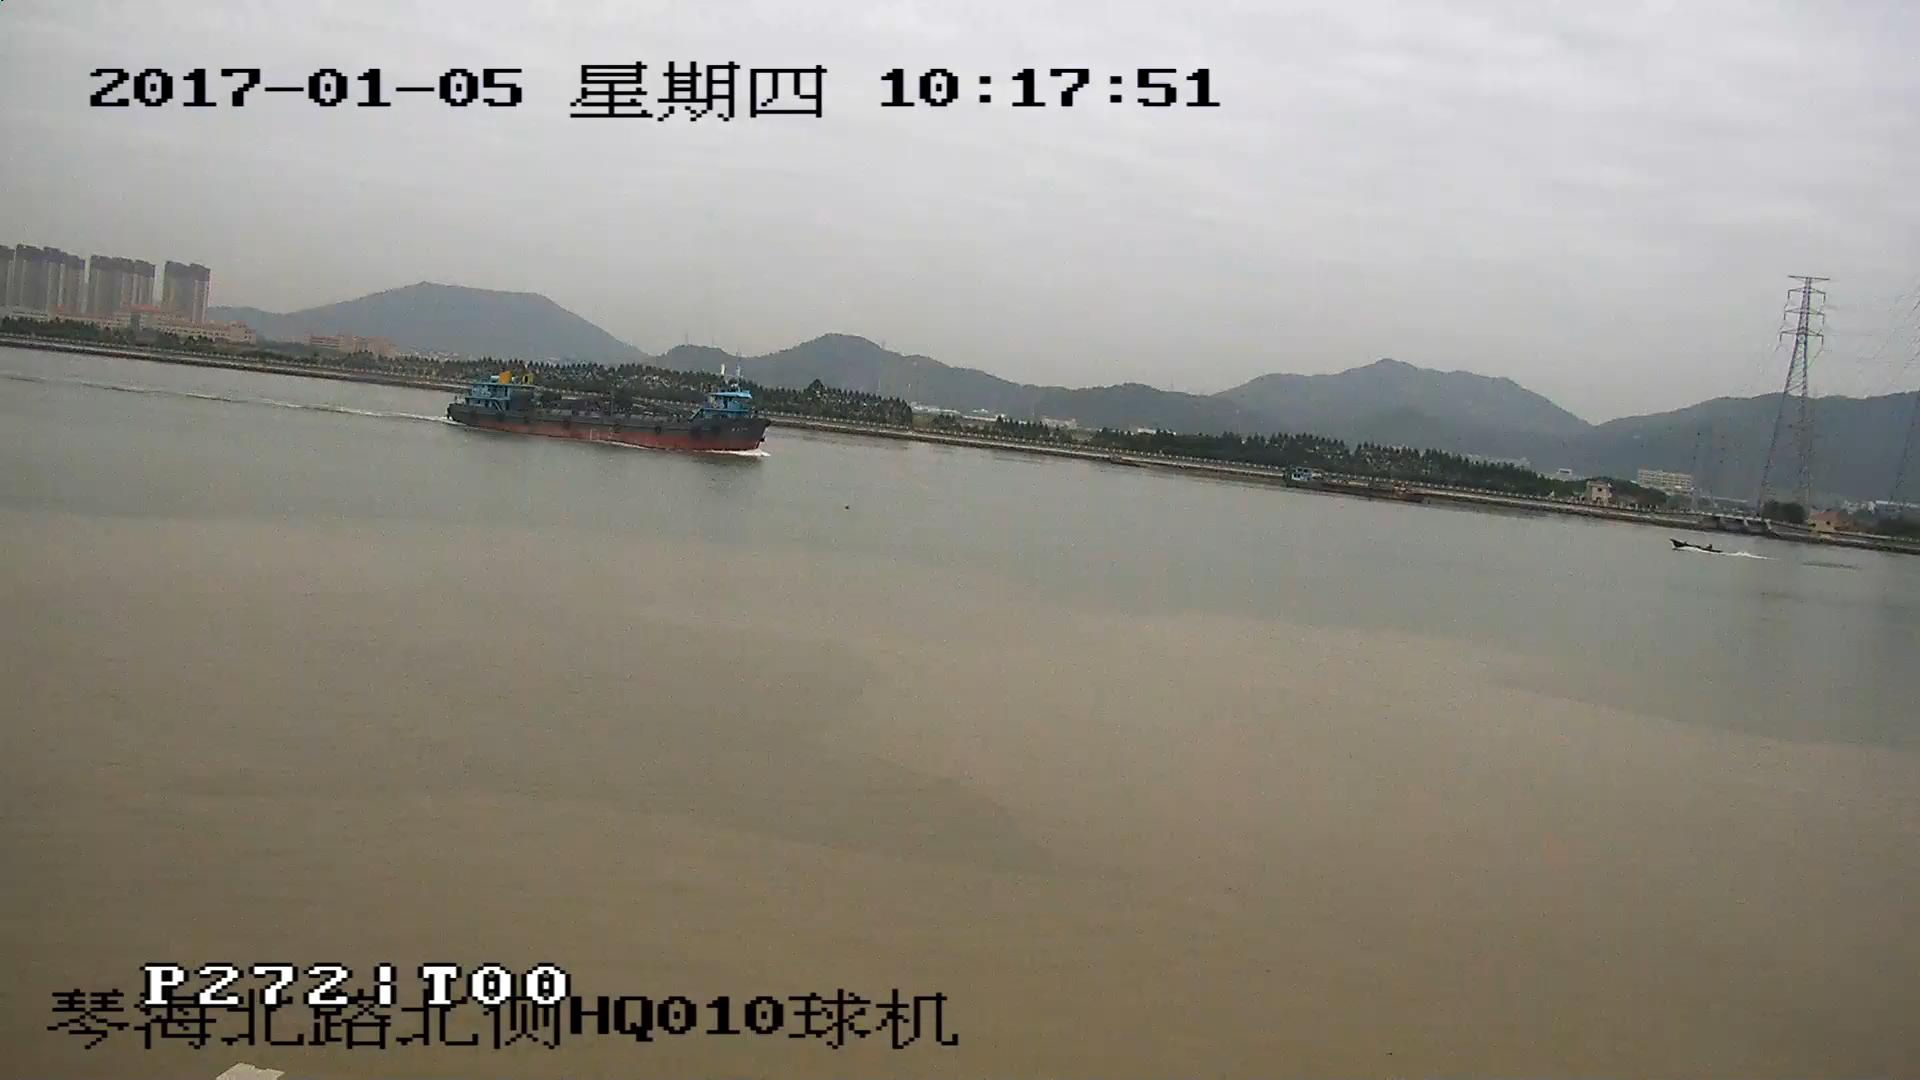bulk cargo carrier: (448, 365, 775, 455)
